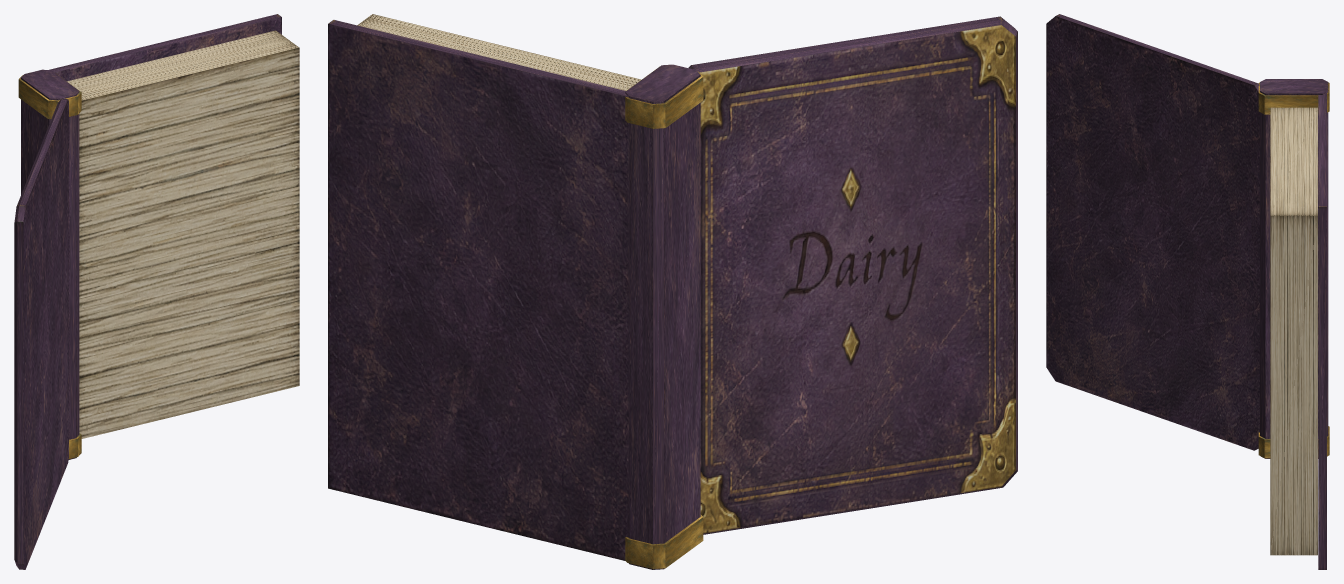
The model's file is DairyOpen.fbx.
The picture shows the model from 3 angles, left to right: view 1: azimuth 30°, elevation 25°; view 2: azimuth 150°, elevation 25°; view 3: azimuth 270°, elevation 25°; orthographic projection. The views are drawn at different scales.
Parts seen in each view (by area): view 1: SM_Diary_Body, SM_Diary_Cover_Rotate_Y; view 2: SM_Diary_Body, SM_Diary_Cover_Rotate_Y; view 3: SM_Diary_Cover_Rotate_Y, SM_Diary_Body.
Part boxes in pixels (x1=…): SM_Diary_Body: x1=18, y1=14, x2=299, y2=459; SM_Diary_Cover_Rotate_Y: x1=14, y1=98, x2=69, y2=569; SM_Diary_Body: x1=328, y1=14, x2=703, y2=569; SM_Diary_Cover_Rotate_Y: x1=688, y1=16, x2=1017, y2=534; SM_Diary_Cover_Rotate_Y: x1=1046, y1=14, x2=1259, y2=450; SM_Diary_Body: x1=1258, y1=79, x2=1329, y2=569.
Size of the model in its own units: 32.14 by 28 by 19.7.
Materials: 3 (3 with a texture image).
